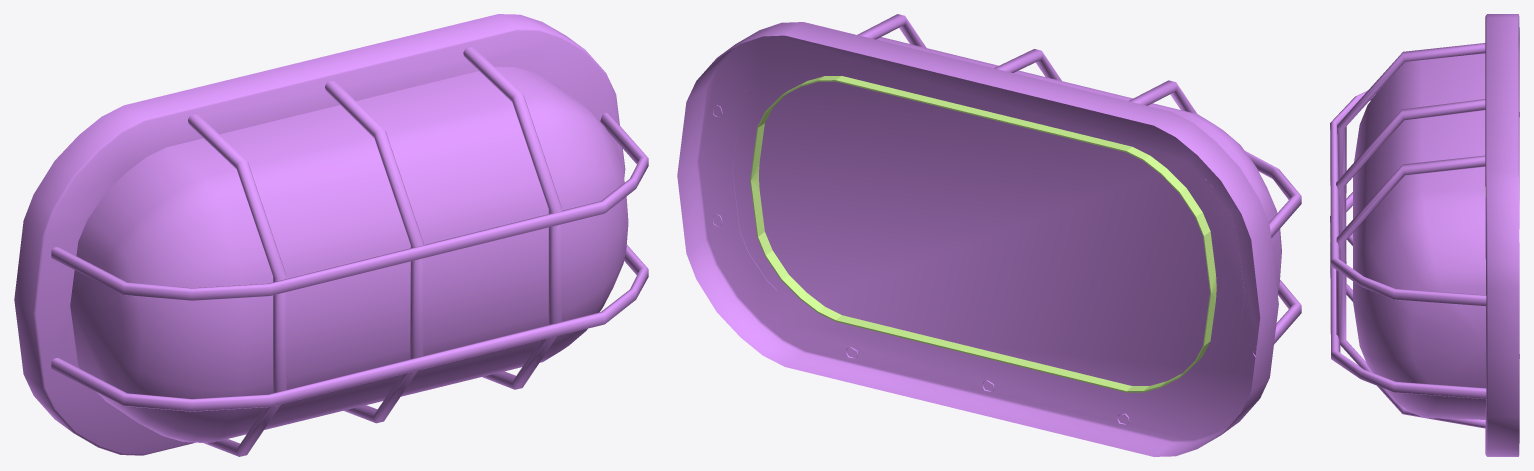
Rendered from Light.FBX.
3 views of the same model, side by side, from view 1: azimuth 30°, elevation 25°; view 2: azimuth 150°, elevation 25°; view 3: azimuth 270°, elevation 25° (orthographic). The views are drawn at different scales.
Parts seen in each view (by area): view 1: Bunker Light; view 2: Bunker Light, Light; view 3: Bunker Light.
Boxes of the visible parts, x1,y1,x2,y2 form: Bunker Light: [14, 14, 648, 456]; Bunker Light: [677, 14, 1301, 456]; Light: [750, 76, 1216, 392]; Bunker Light: [1330, 14, 1519, 456].
Size of the model in its own units: 56.5 by 30.69 by 18.71.
